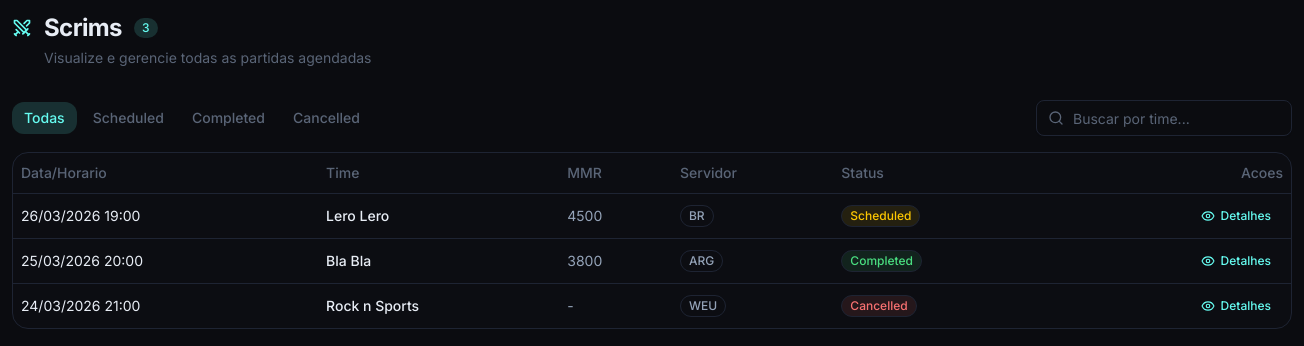
Test case: AdminScrims › status filter tabs › filters scrims by status when tab is clicked
The image size is (1304, 346).
Click the button "Scheduled".
click(128, 118)  # box 81,102 -> 176,134
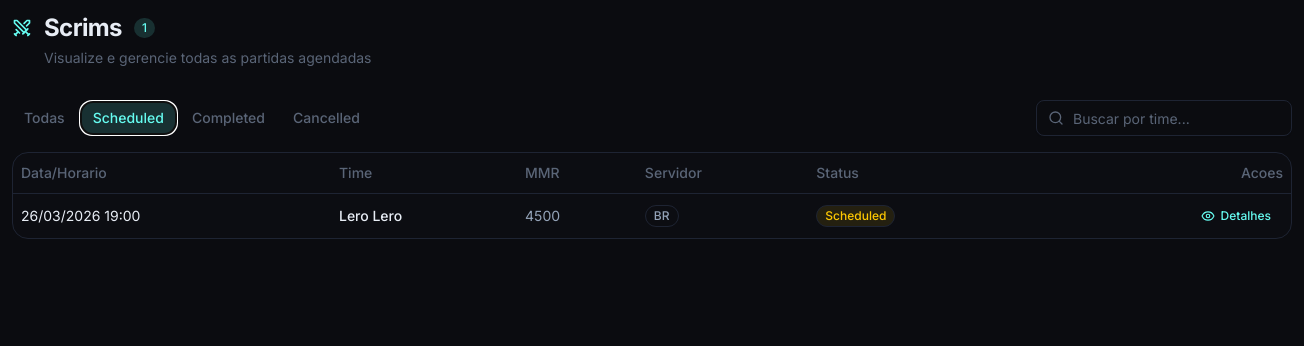
Expected: the text "Lero Lero" is shown, 331,193 -> 517,238
Expected: the text "Bla Bla" is gone
Expected: the text "Rock n Sports" is gone
